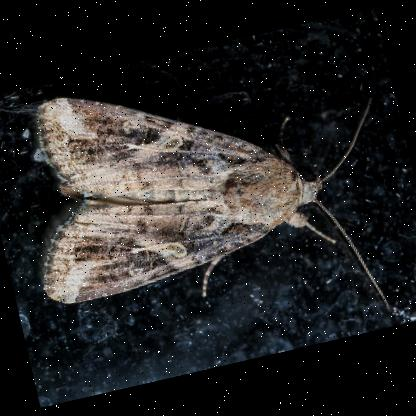Fall Armyworm Moth: (0, 25, 416, 389)
